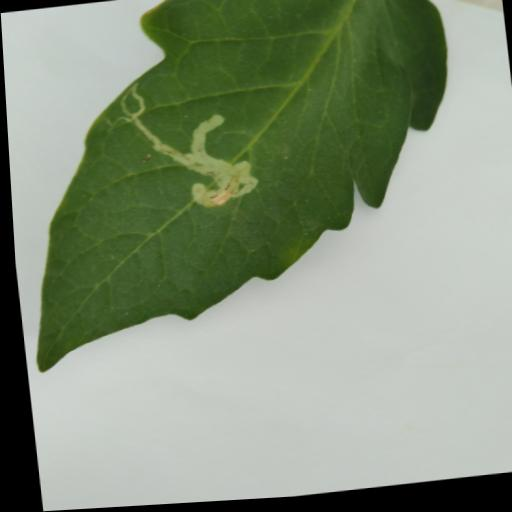Leaf_Miner: (63, 29, 291, 265)
